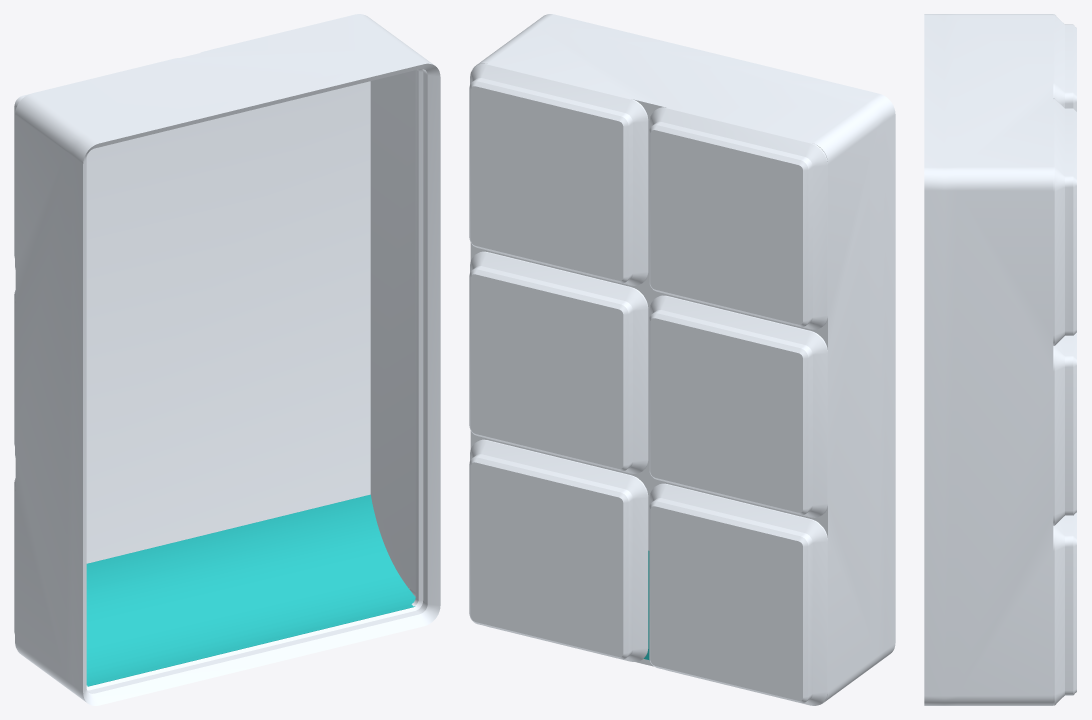
File: scoop-2x3-ramp.glb
3 views of the same model, side by side, from view 1: azimuth 30°, elevation 25°; view 2: azimuth 150°, elevation 25°; view 3: azimuth 270°, elevation 25° (orthographic). The views are drawn at different scales.
Size of the model in its own units: 83.5 by 126 by 32.41.
